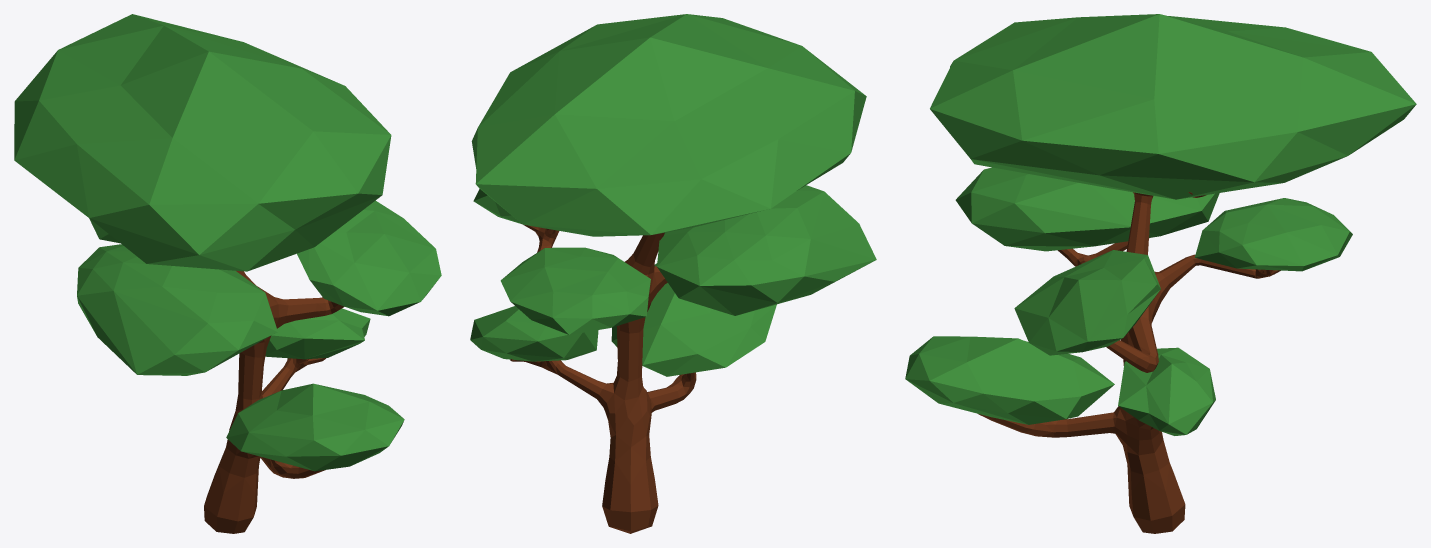
Rendered from treee.fbx.
The picture shows the model from 3 angles, left to right: view 1: azimuth 30°, elevation 25°; view 2: azimuth 150°, elevation 25°; view 3: azimuth 270°, elevation 25°; orthographic projection. The views are drawn at different scales.
Visible parts, largest first — view 1: Icosphere, Cube; view 2: Icosphere, Cube; view 3: Icosphere, Cube.
Part boxes in pixels (x1,y1,x2,y2): Icosphere: (14, 14, 441, 471); Cube: (204, 271, 344, 533); Icosphere: (470, 14, 876, 376); Cube: (510, 223, 696, 533); Icosphere: (905, 14, 1416, 435); Cube: (978, 192, 1280, 533).
Bounding box in the file's own units: 515 × 680 × 622.
